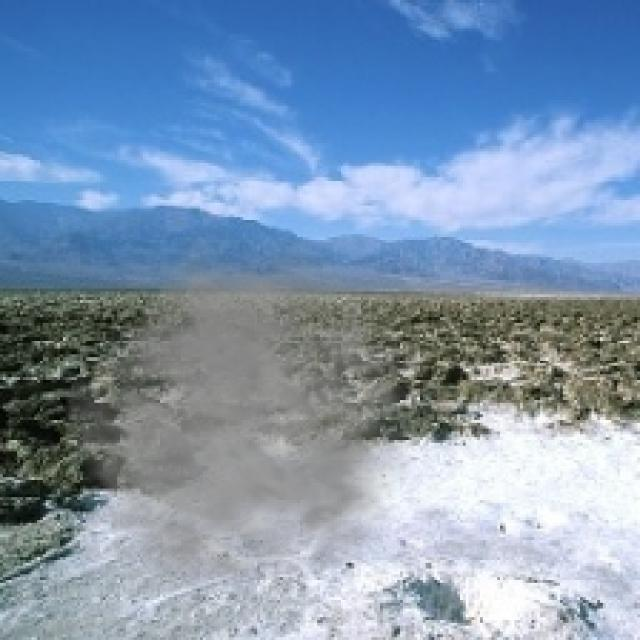smoke: (63, 232, 451, 597)
